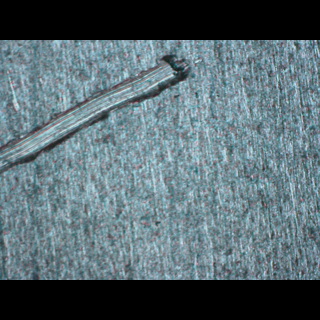d: (0, 53, 191, 176)
